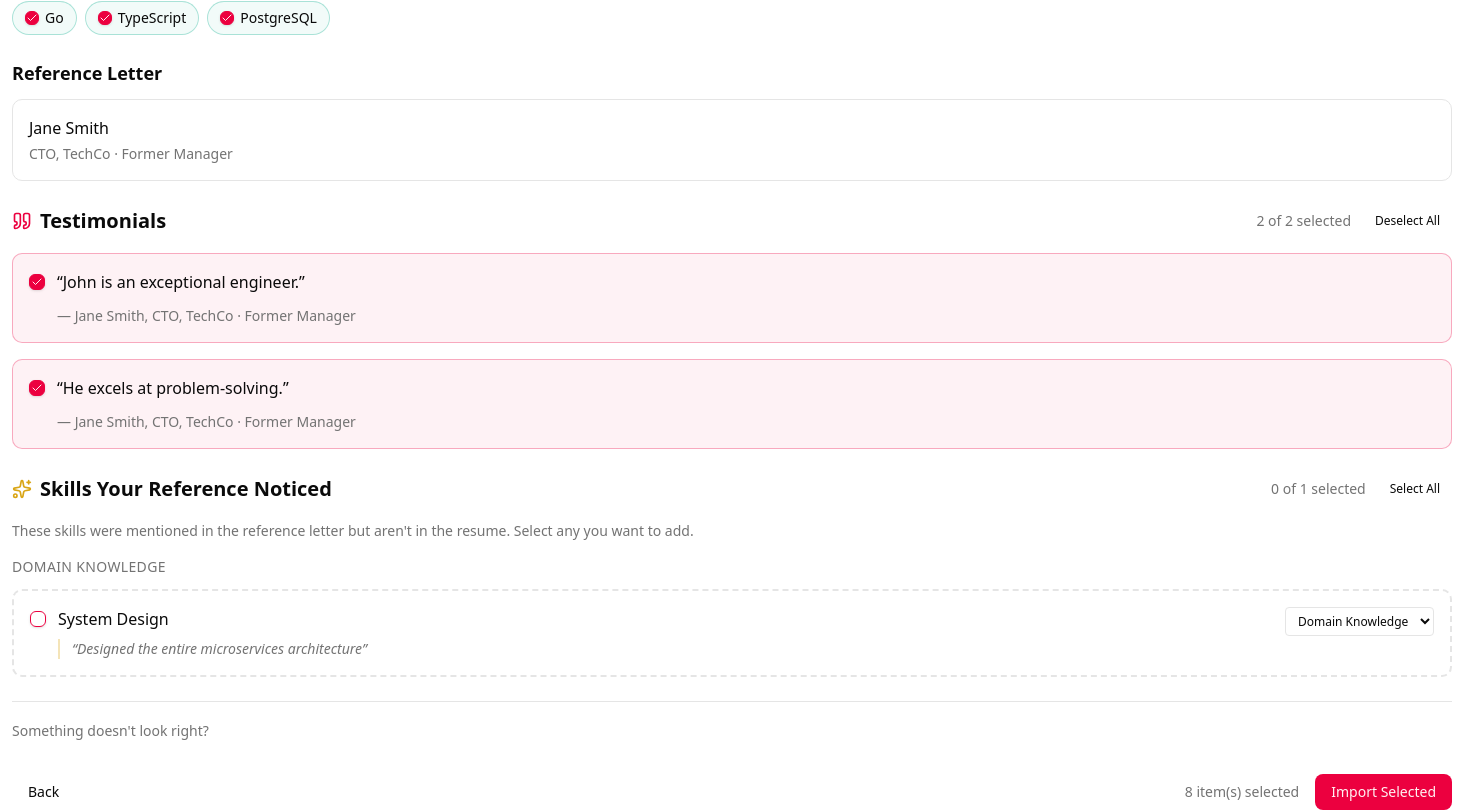
Test: ExtractionReview › Import action › shows loading state during import
The image size is (1464, 810).
(page scrolled)
Click the button "Import Selected" at (1384, 792), box [1315,774,1452,809]
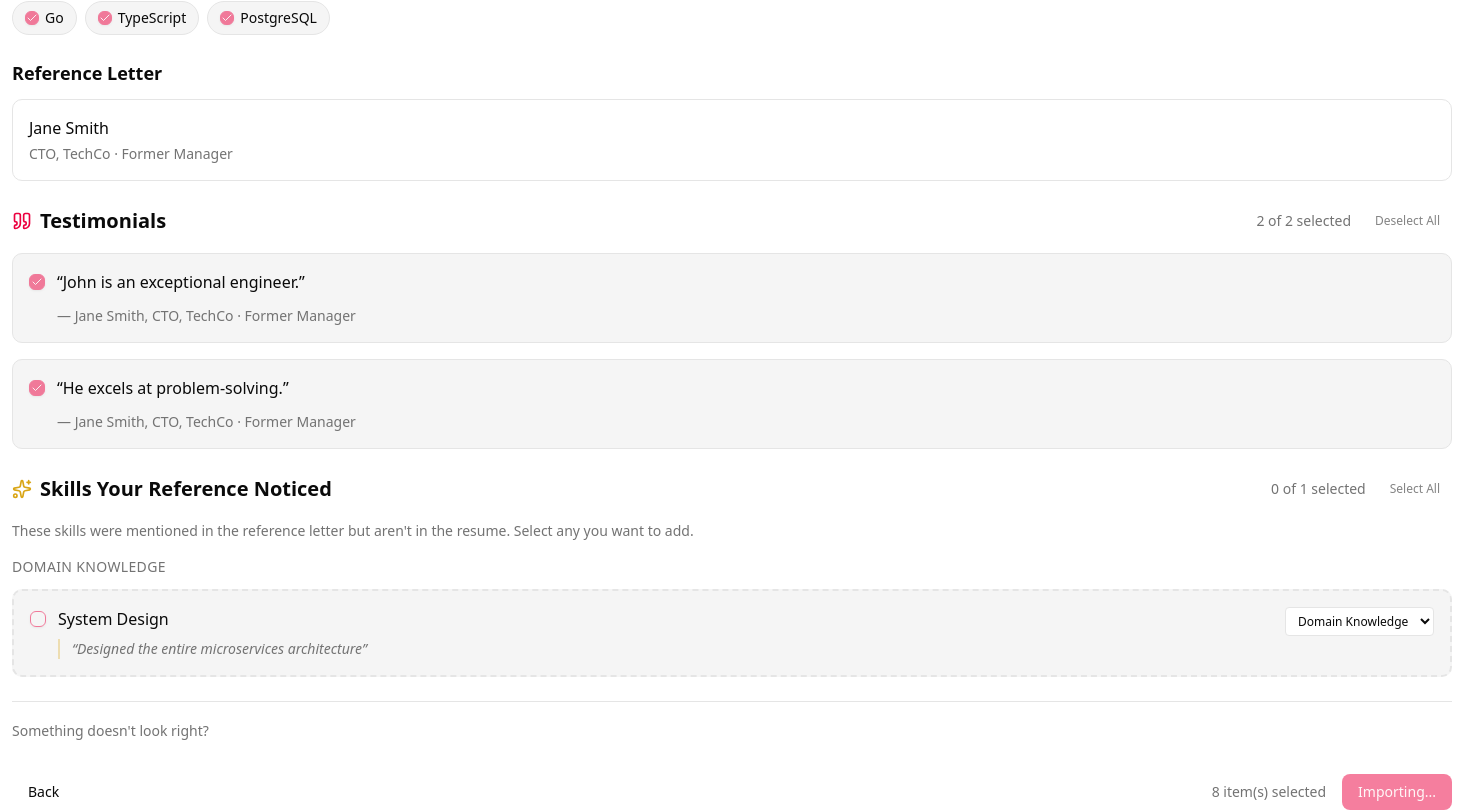
Check: the button "Importing..." is disabled, box [1342,774,1452,809]
